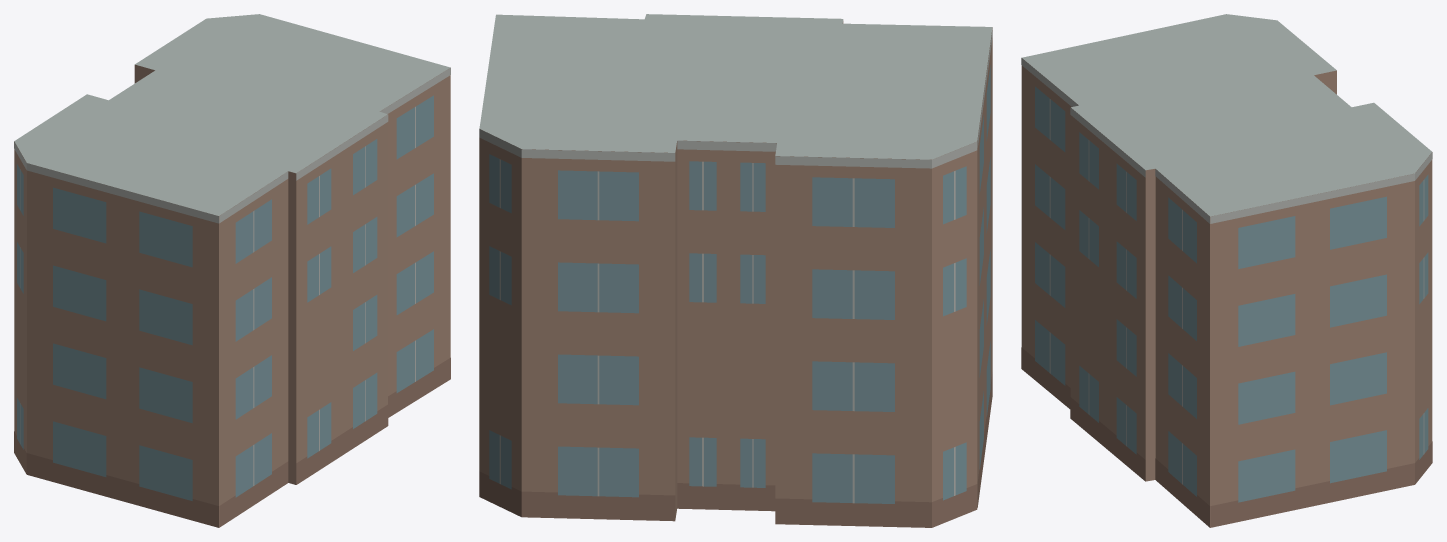
The model's file is survey-upis-32741370.glb.
The picture shows the model from 3 angles, left to right: view 1: azimuth 30°, elevation 25°; view 2: azimuth 150°, elevation 25°; view 3: azimuth 270°, elevation 25°; orthographic projection. The views are drawn at different scales.
Parts seen in each view (by area): view 1: survey-upis-32741370.tmp; view 2: survey-upis-32741370.tmp; view 3: survey-upis-32741370.tmp.
Boxes of the visible parts, x1=… form: survey-upis-32741370.tmp: x1=14, y1=14, x2=450, y2=527; survey-upis-32741370.tmp: x1=479, y1=14, x2=992, y2=527; survey-upis-32741370.tmp: x1=1021, y1=14, x2=1432, y2=527.
Size of the model in its own units: 14.25 by 10.2 by 12.21.
